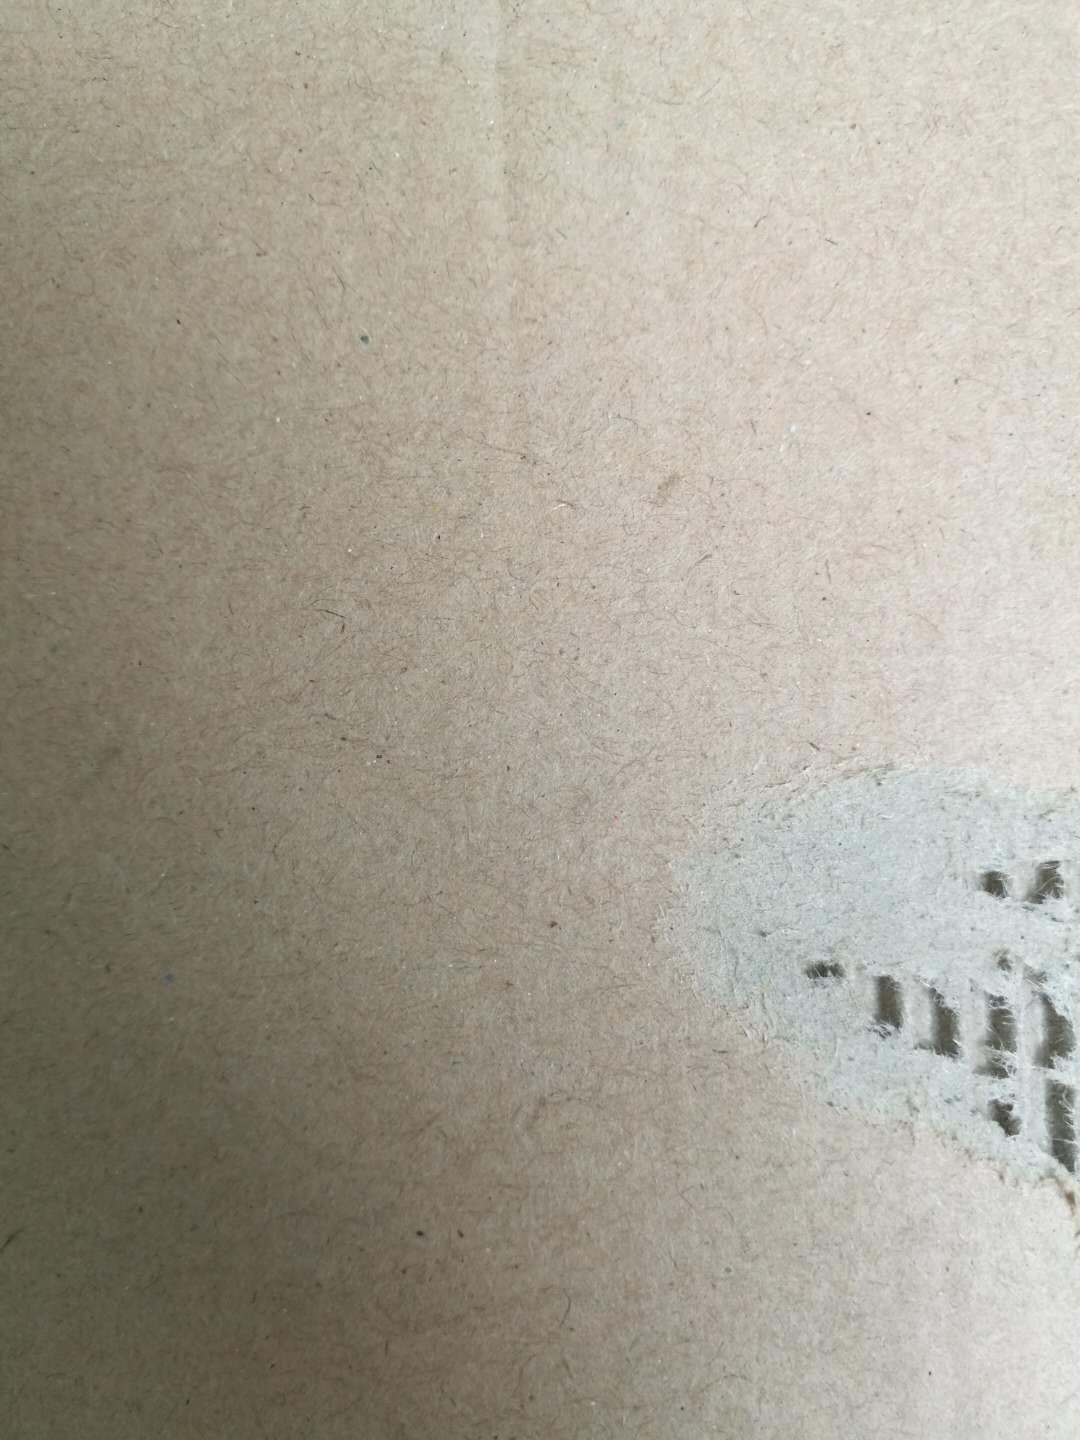defect: (638, 719, 1080, 1243)
